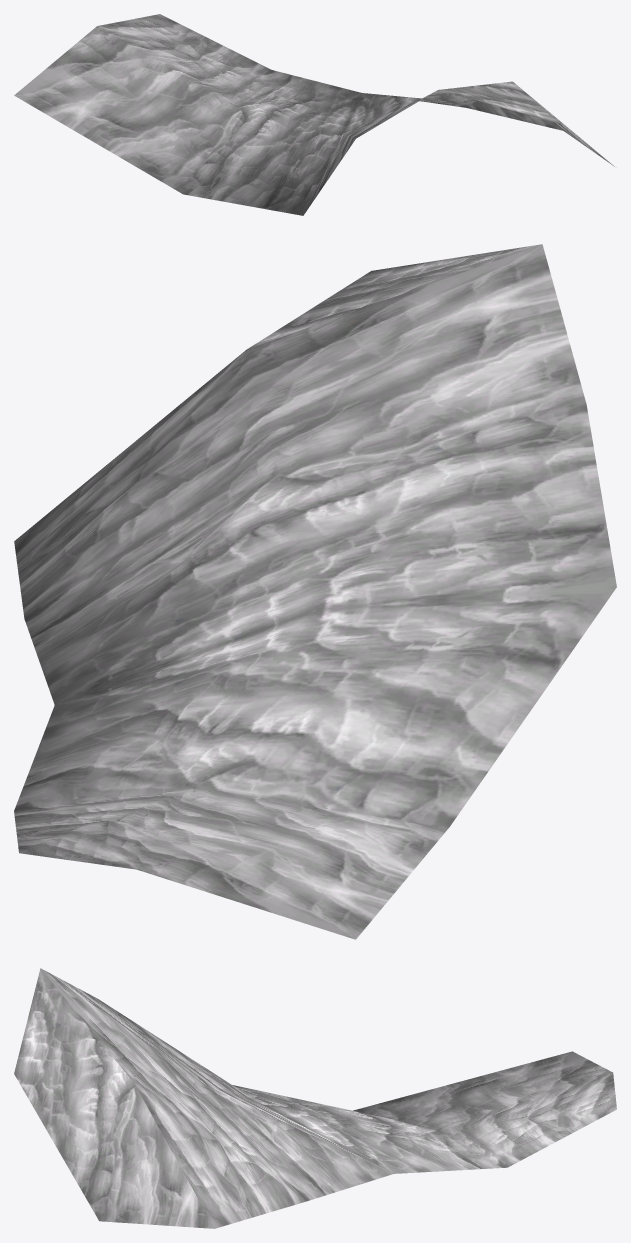
Rendered from SWORDLIGHT20_PS-AREA03_52.fbx.
The picture shows the model from 3 angles, top to bottom: view 1: azimuth 30°, elevation 25°; view 2: azimuth 150°, elevation 25°; view 3: azimuth 270°, elevation 25°; orthographic projection. The views are drawn at different scales.
Visible parts, largest first — view 1: SWORDLIGHT20_PS-AREA03_52; view 2: SWORDLIGHT20_PS-AREA03_52; view 3: SWORDLIGHT20_PS-AREA03_52.
Boxes of the visible parts, x1=… form: SWORDLIGHT20_PS-AREA03_52: x1=14, y1=14, x2=614, y2=215; SWORDLIGHT20_PS-AREA03_52: x1=14, y1=244, x2=616, y2=939; SWORDLIGHT20_PS-AREA03_52: x1=14, y1=968, x2=616, y2=1228.
Bounding box in the file's own units: 99840 × 49417 × 139852.
Materials: 1 (1 with a texture image).
